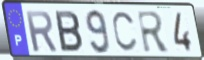4: (173, 11, 193, 54)
9: (84, 8, 112, 56)
B: (54, 9, 85, 54)
C: (111, 10, 139, 54)
R: (136, 10, 172, 55), (23, 10, 59, 54)
